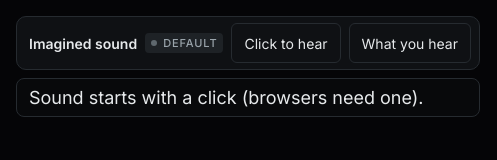
SoundChip › locked audio: "Click to hear" unlocks; then Mute toggles the ambience setting with aria-pressed
Click the button "Click to hear".
click(286, 43)  # box top-left (232, 23), bottom-right (341, 63)
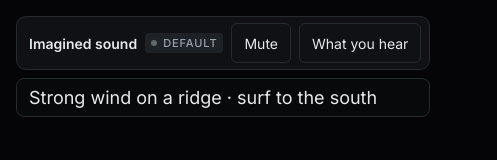
expect the text with test id "world-fly-caption" reads "Strong wind on a ridge · surf to the south": met, box top-left (29, 87), bottom-right (377, 108)
Click the button "Mute".
click(261, 43)  # box top-left (232, 23), bottom-right (291, 63)
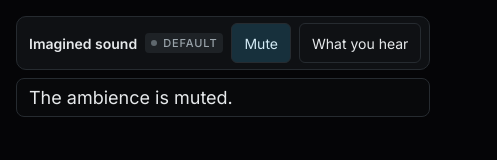
expect the text "The ambience is muted." is shown: met, box top-left (16, 78), bottom-right (430, 117)
